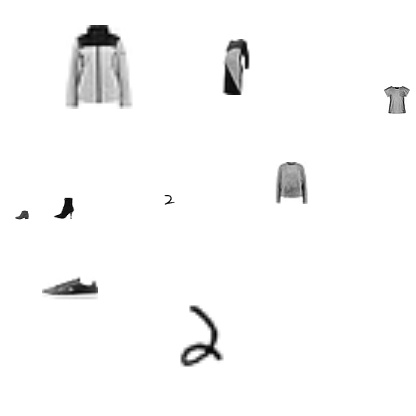2: (160, 297, 244, 381), (162, 193, 176, 207)
Ankle_boot: (53, 197, 75, 219), (15, 208, 29, 222)
Coat: (57, 25, 141, 109)
Dress: (207, 39, 263, 95)
Pullover: (270, 162, 312, 204)
Sneaker: (42, 259, 98, 315)
T-shirt/top: (383, 86, 411, 114)
